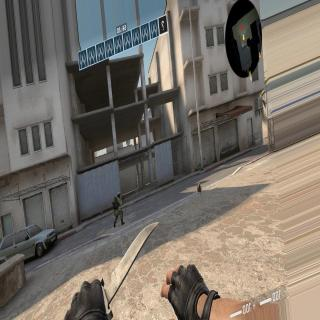CT-Body: (112, 190, 124, 228)
CT-Head: (117, 191, 120, 198)
